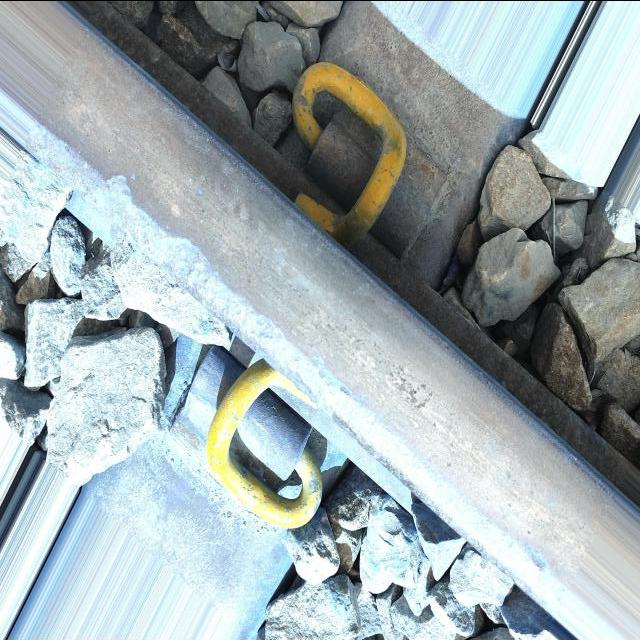squats_high: (392, 363, 434, 409), (525, 542, 549, 572)
